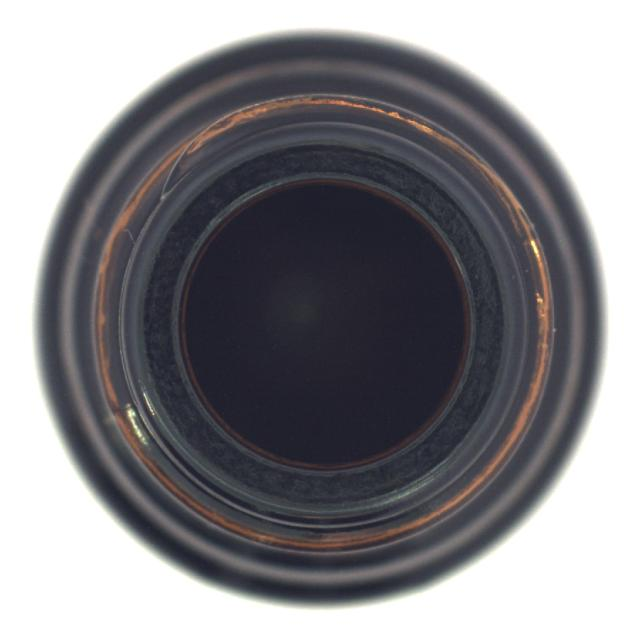bottle-good: (31, 30, 594, 606)
